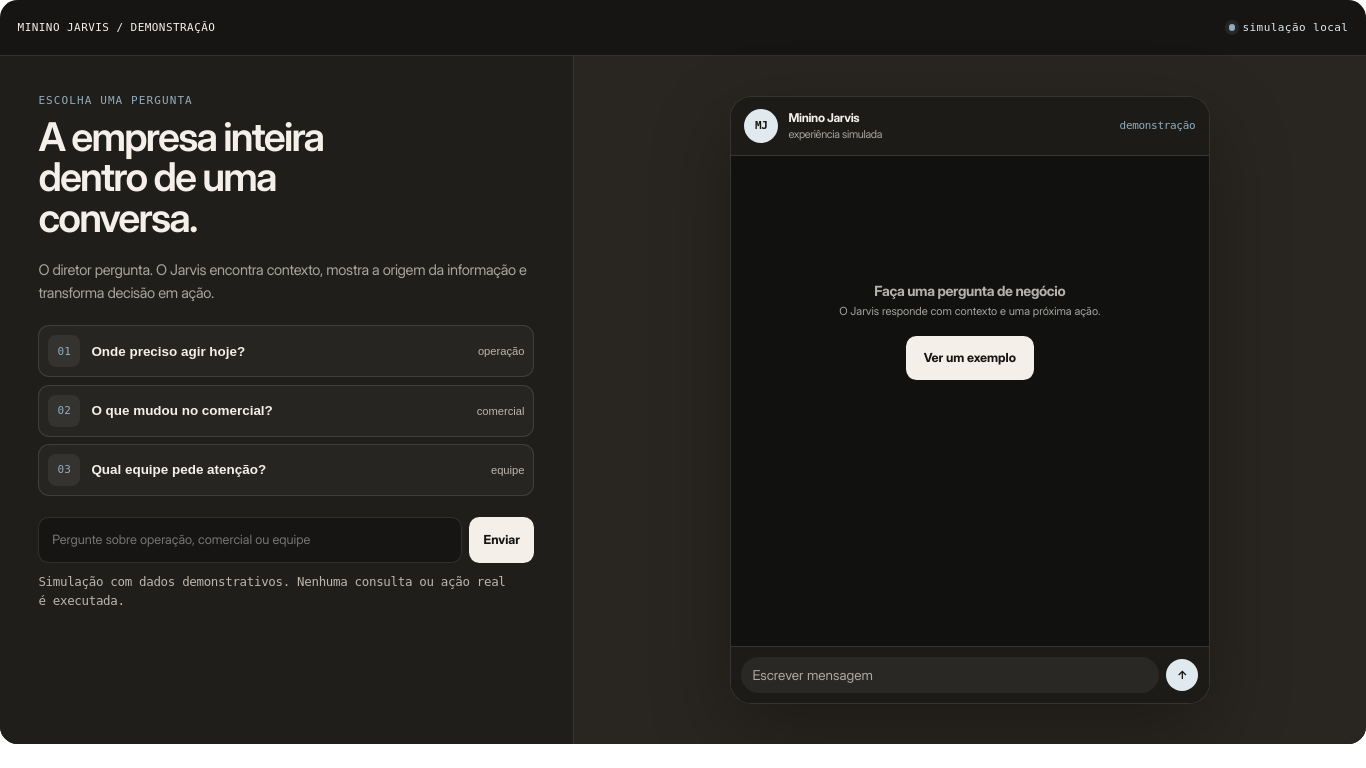
Test: JarvisDemo › inicia a conversa a partir de uma pergunta escolhida
Click the button "01 Onde preciso agir hoje? operação" at (64, 351), box [38,325,534,377]
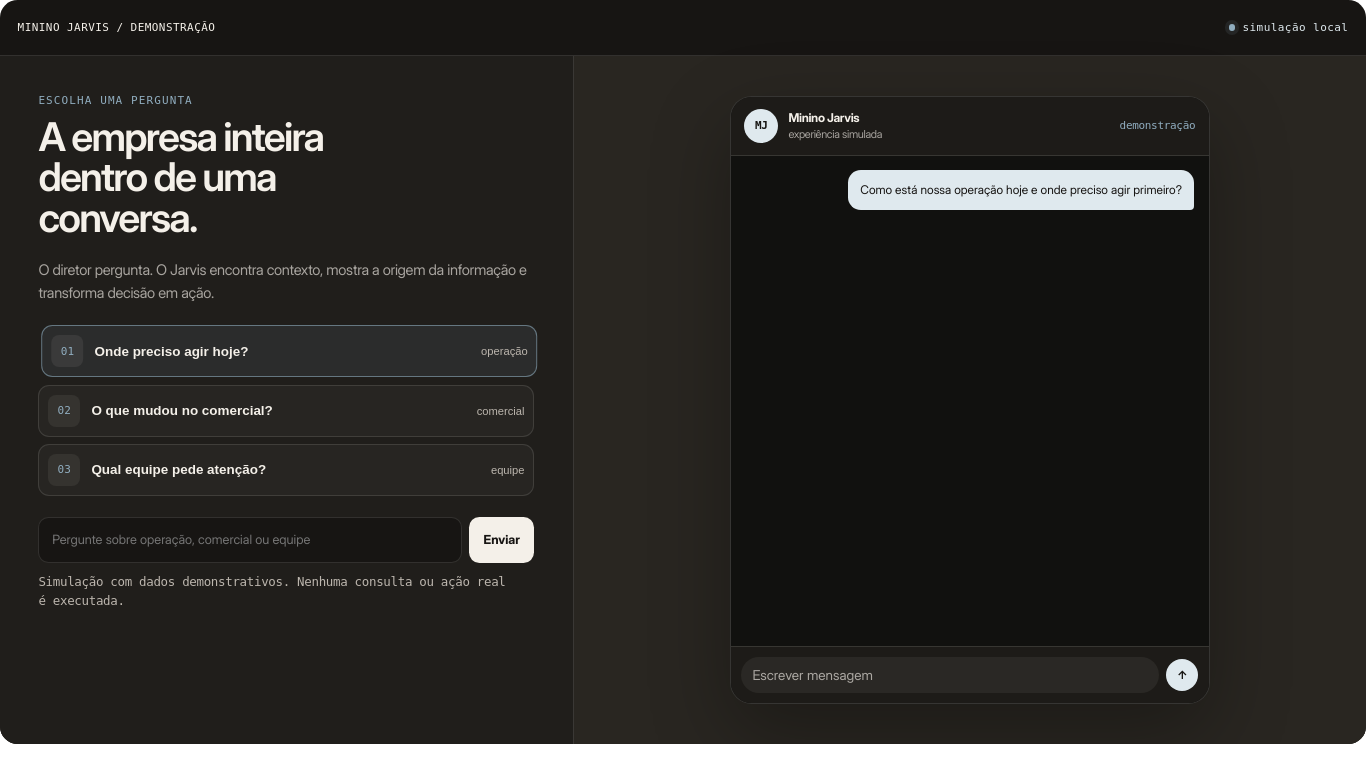
expect the text "Como está nossa operação hoje e onde preciso agir primeiro?" is shown: met, box [860,181,1182,199]
